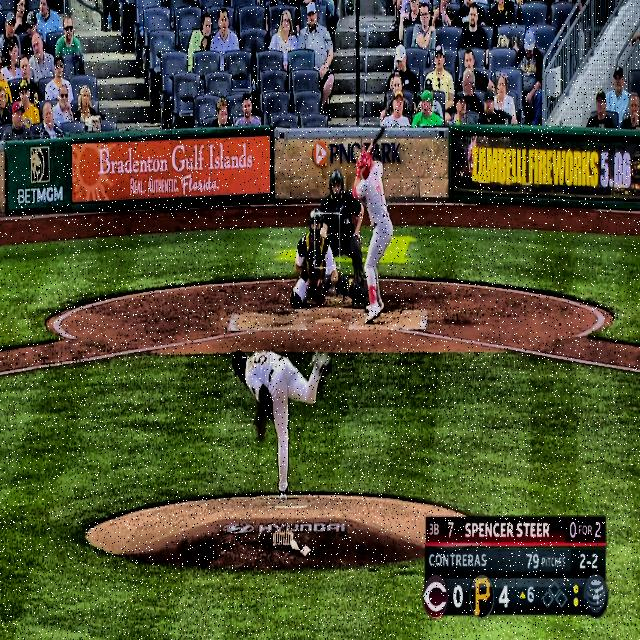baseball: (319, 228, 326, 238)
